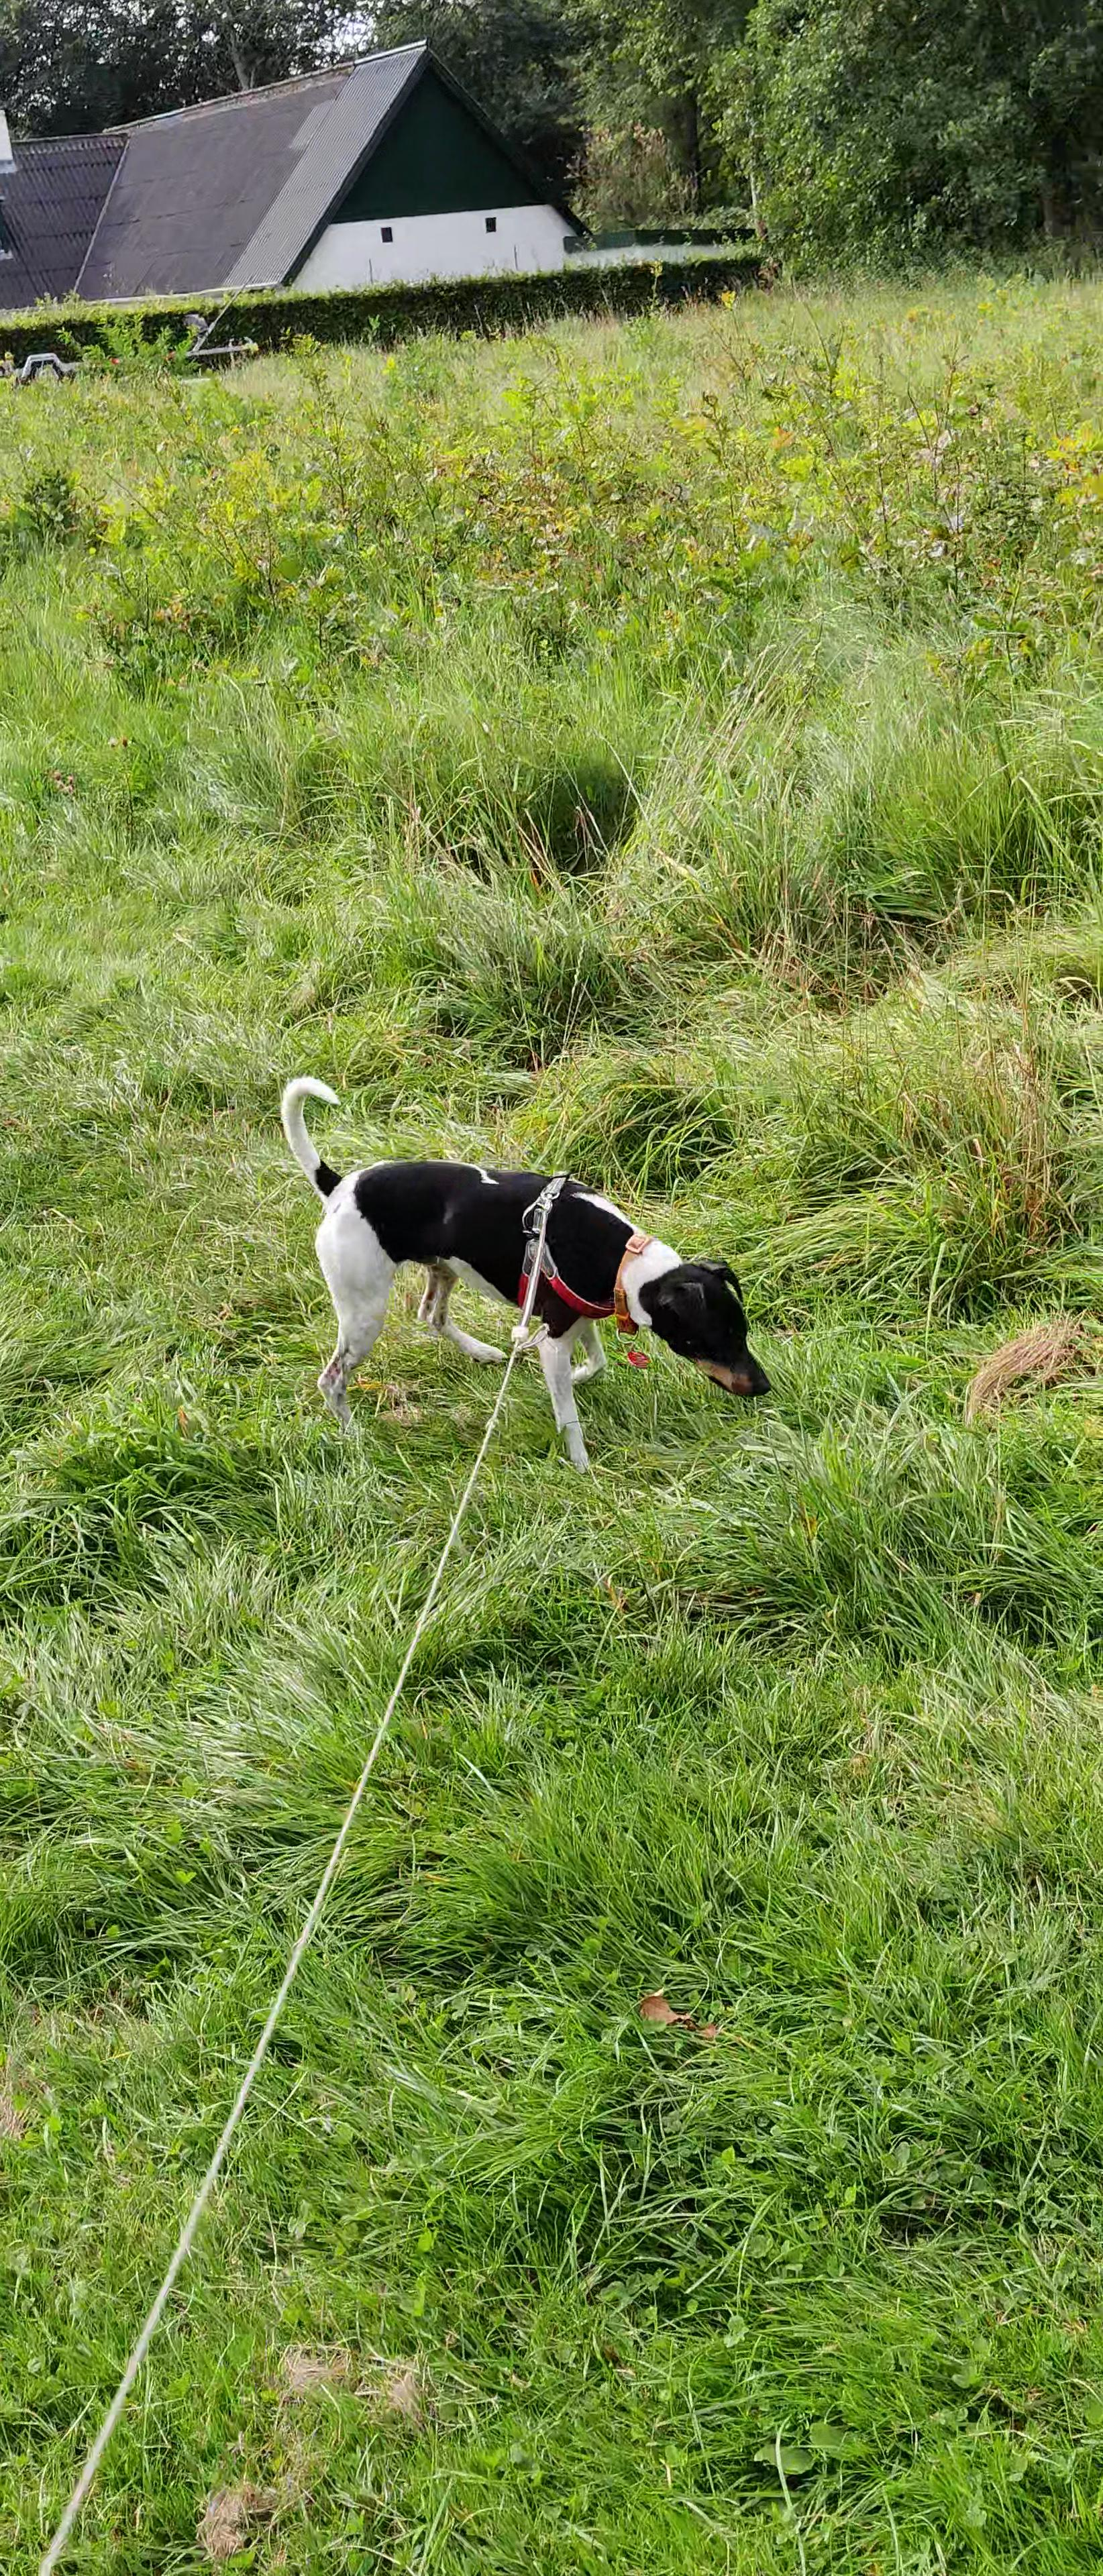Dog: (270, 1051, 782, 1488)
